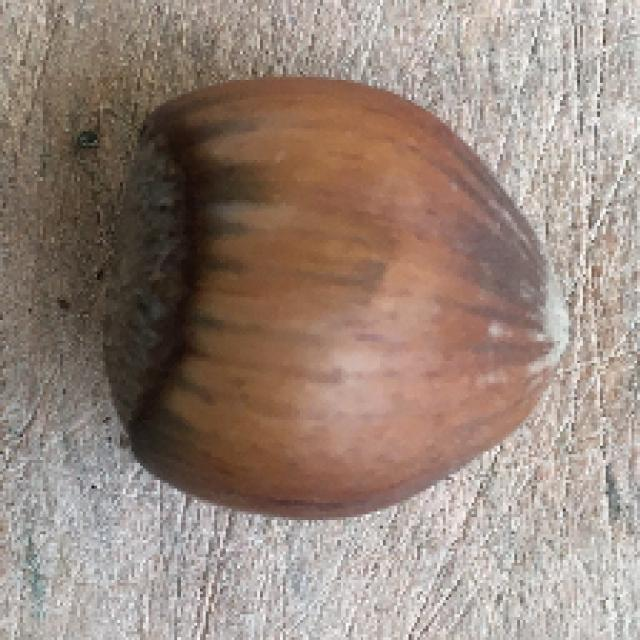qualityHazelnut: (103, 69, 590, 528)
